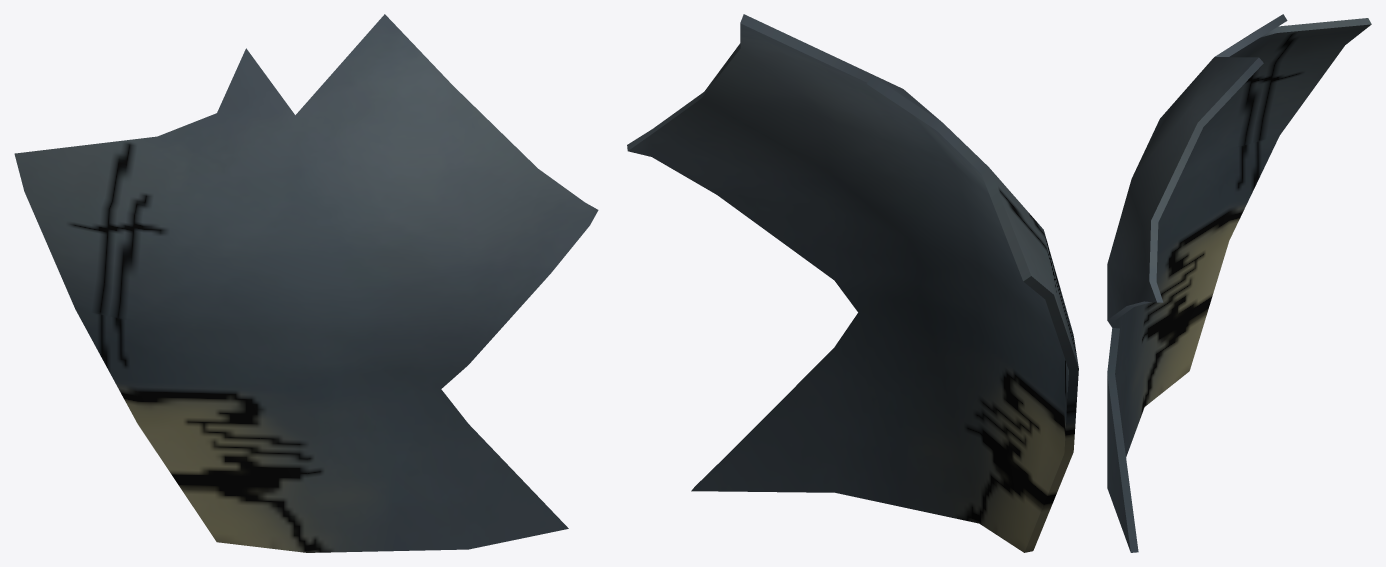
The model's file is jug_gib_9.fbx.
The picture shows the model from 3 angles, left to right: view 1: azimuth 30°, elevation 25°; view 2: azimuth 150°, elevation 25°; view 3: azimuth 270°, elevation 25°; orthographic projection. The views are drawn at different scales.
Parts seen in each view (by area): view 1: jug_gib_9; view 2: jug_gib_9; view 3: jug_gib_9.
Part boxes in pixels (left/top/right/bottom): jug_gib_9: left=14, top=14, right=598, bottom=552; jug_gib_9: left=627, top=14, right=1078, bottom=552; jug_gib_9: left=1107, top=14, right=1371, bottom=552.
Bounding box in the file's own units: 125 × 124 × 66.87.
